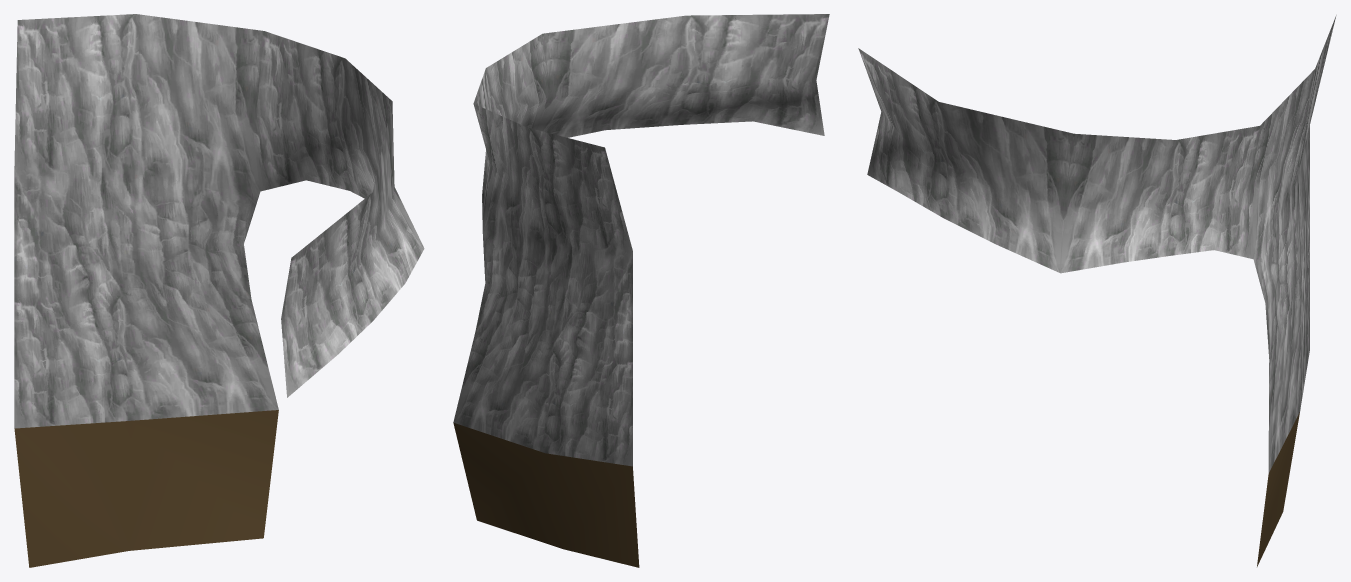
File: SWORDLIGHT20_PS-AREA03_05.fbx
3 renders of one model, left to right at view 1: azimuth 30°, elevation 25°; view 2: azimuth 150°, elevation 25°; view 3: azimuth 270°, elevation 25°, orthographic. The views are drawn at different scales.
Parts seen in each view (by area): view 1: SWORDLIGHT20_PS-AREA03_05; view 2: SWORDLIGHT20_PS-AREA03_05; view 3: SWORDLIGHT20_PS-AREA03_05.
Boxes of the visible parts, x1,y1,x2,y2 form: SWORDLIGHT20_PS-AREA03_05: (14, 14, 424, 567); SWORDLIGHT20_PS-AREA03_05: (453, 14, 829, 567); SWORDLIGHT20_PS-AREA03_05: (858, 15, 1336, 566).
Bounding box in the file's own units: 84404 × 160757 × 148900.
Materials: 3 (3 with a texture image).
